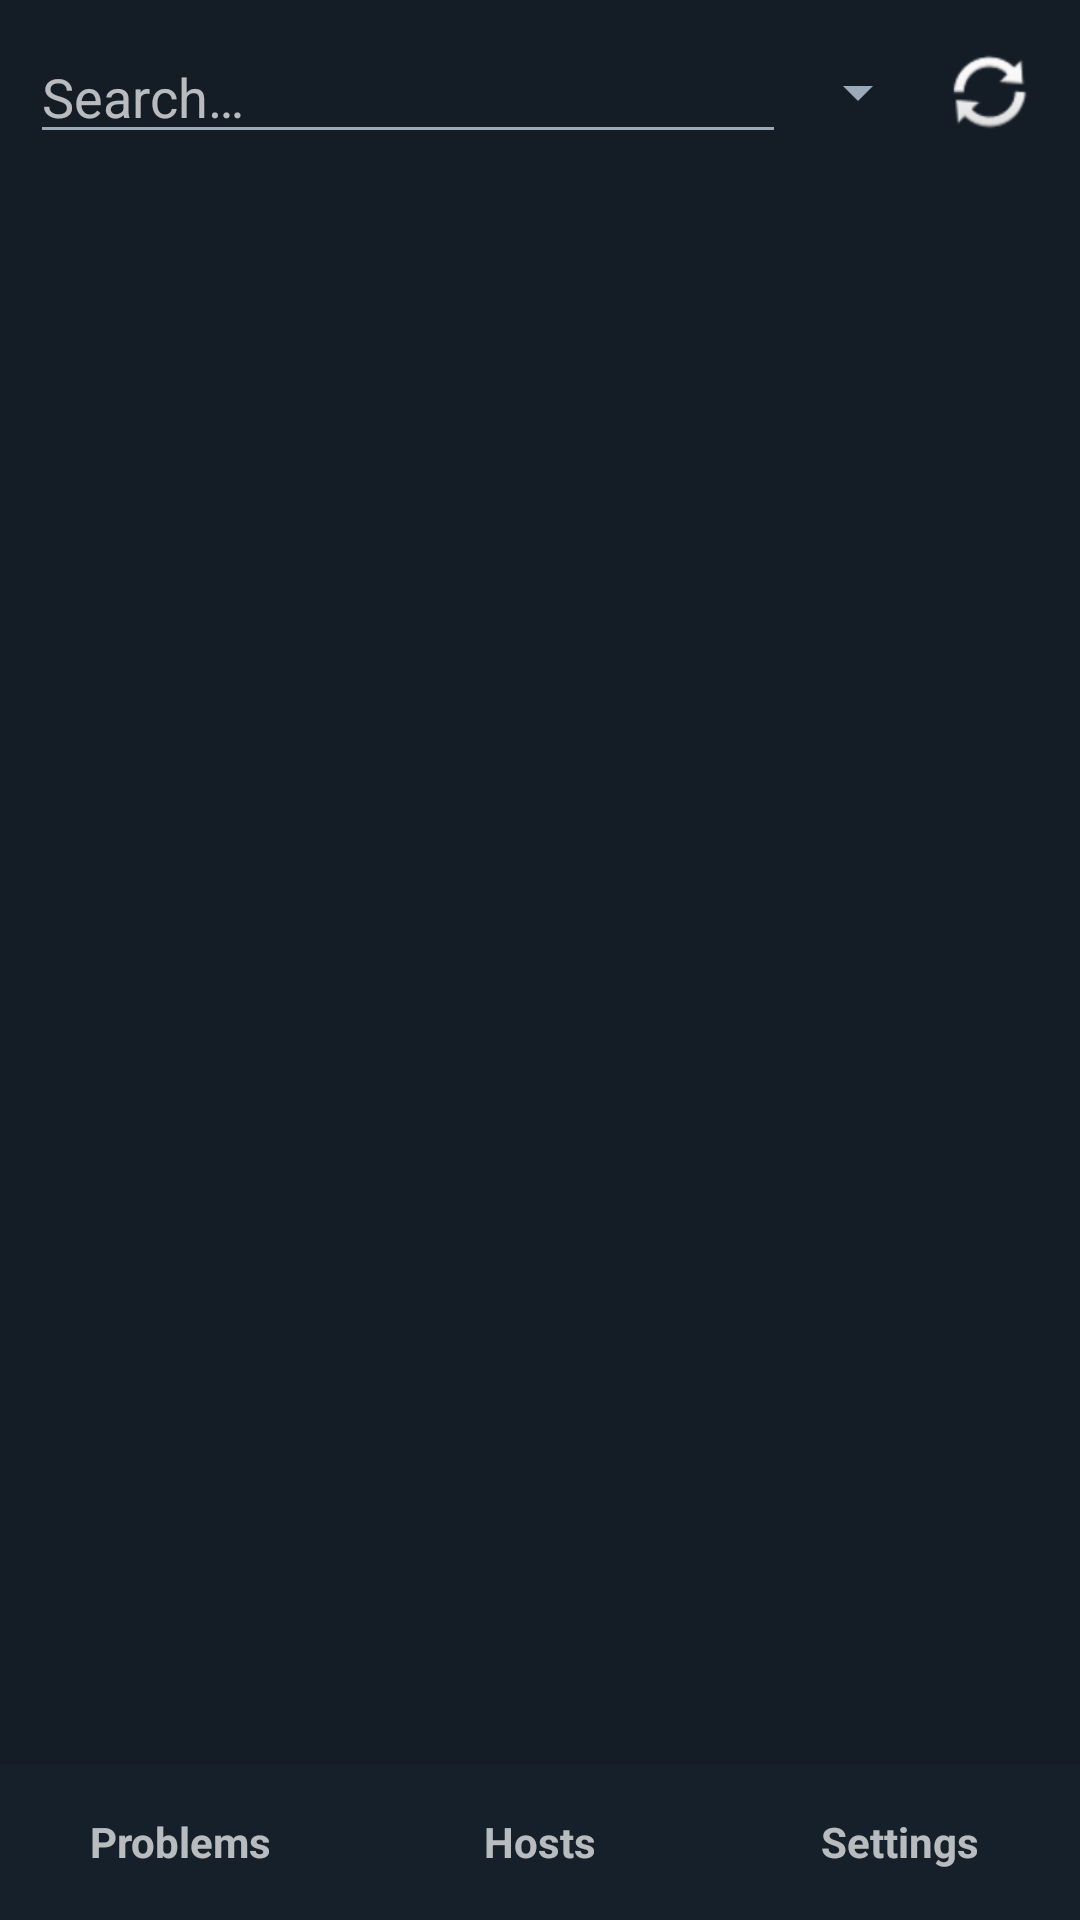

Screen size 1080px x 1920px. Icon name, then its center in pixels as (x=x, y=y):
Refresh: (x=989, y=92)
